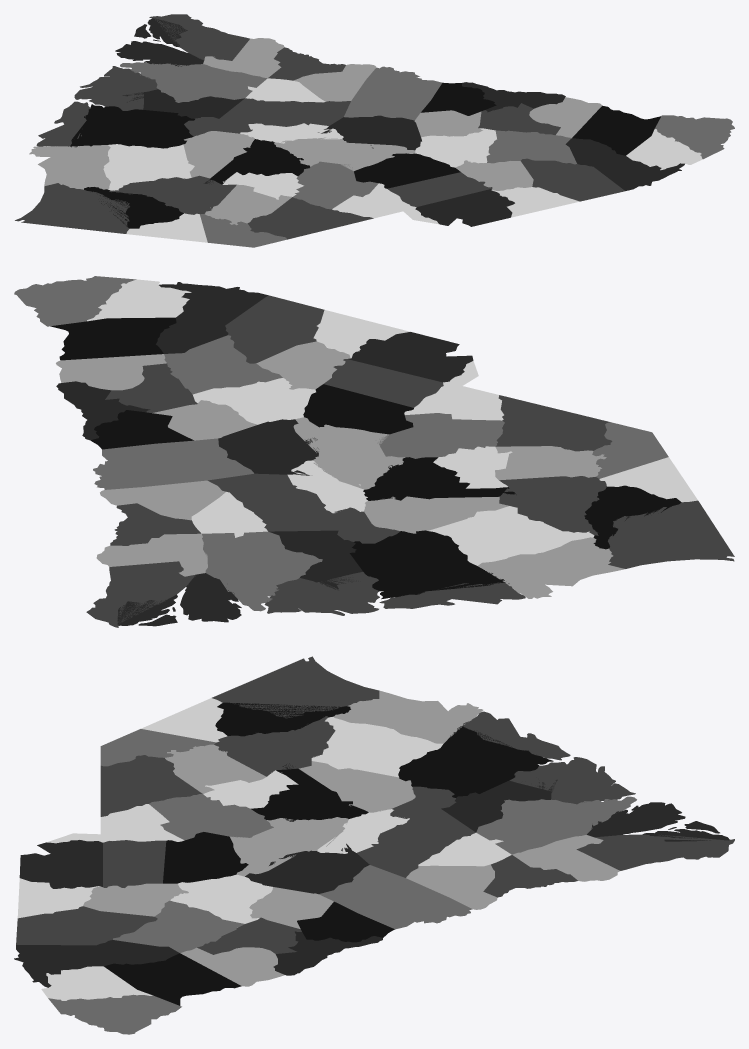
Rendered from South_Carolina_Counties_2D.fbx.
3 renders of one model, top to bottom at view 1: azimuth 30°, elevation 25°; view 2: azimuth 150°, elevation 25°; view 3: azimuth 270°, elevation 25°, orthographic. The views are drawn at different scales.
Parts seen in each view (by area): view 1: SC_Berkeley_County_2D, SC_Horry_County_2D, SC_Orangeburg_County_2D, SC_Charleston_County_2D, SC_Colleton_County_2D, SC_Aiken_County_2D, SC_Williamsburg_County_2D, SC_Georgetown_County_2D, SC_Spartanburg_County_2D, SC_Florence_County_2D, SC_Chesterfield_County_2D, SC_Richland_County_2D (+34 smaller); view 2: SC_Berkeley_County_2D, SC_Horry_County_2D, SC_Orangeburg_County_2D, SC_Charleston_County_2D, SC_Colleton_County_2D, SC_Aiken_County_2D, SC_Williamsburg_County_2D, SC_Georgetown_County_2D, SC_Spartanburg_County_2D, SC_Chesterfield_County_2D, SC_Florence_County_2D, SC_Richland_County_2D (+34 smaller); view 3: SC_Berkeley_County_2D, SC_Horry_County_2D, SC_Charleston_County_2D, SC_Orangeburg_County_2D, SC_Colleton_County_2D, SC_Aiken_County_2D, SC_Williamsburg_County_2D, SC_Georgetown_County_2D, SC_Spartanburg_County_2D, SC_Florence_County_2D, SC_Chesterfield_County_2D, SC_Greenville_County_2D (+34 smaller).
Boxes of the visible parts, x1,y1,x2,y2 form: SC_Berkeley_County_2D: (70, 104, 194, 148); SC_Horry_County_2D: (15, 183, 129, 233); SC_Orangeburg_County_2D: (184, 98, 350, 136); SC_Charleston_County_2D: (36, 66, 157, 146); SC_Colleton_County_2D: (120, 62, 267, 102); SC_Aiken_County_2D: (344, 66, 441, 120); SC_Williamsburg_County_2D: (103, 144, 194, 190); SC_Georgetown_County_2D: (29, 145, 110, 189); SC_Spartanburg_County_2D: (521, 158, 625, 201); SC_Florence_County_2D: (109, 175, 236, 214); SC_Chesterfield_County_2D: (247, 197, 373, 239); SC_Richland_County_2D: (274, 137, 415, 170); SC_Berkeley_County_2D: (349, 530, 505, 599); SC_Horry_County_2D: (608, 500, 734, 568); SC_Orangeburg_County_2D: (207, 473, 400, 543); SC_Charleston_County_2D: (264, 572, 525, 615); SC_Colleton_County_2D: (202, 531, 322, 611); SC_Aiken_County_2D: (93, 438, 253, 489); SC_Williamsburg_County_2D: (428, 506, 594, 565); SC_Georgetown_County_2D: (478, 537, 625, 598); SC_Spartanburg_County_2D: (225, 295, 324, 363); SC_Chesterfield_County_2D: (495, 395, 612, 451); SC_Florence_County_2D: (499, 476, 606, 535); SC_Richland_County_2D: (293, 417, 405, 489); SC_Berkeley_County_2D: (398, 726, 553, 797); SC_Horry_County_2D: (212, 656, 379, 718); SC_Charleston_County_2D: (462, 711, 635, 804); SC_Orangeburg_County_2D: (357, 786, 475, 877); SC_Colleton_County_2D: (476, 796, 636, 854); SC_Aiken_County_2D: (319, 865, 472, 929); SC_Williamsburg_County_2D: (311, 716, 443, 777); SC_Georgetown_County_2D: (333, 690, 483, 743); SC_Spartanburg_County_2D: (16, 906, 157, 945); SC_Florence_County_2D: (214, 716, 335, 776); SC_Chesterfield_County_2D: (100, 755, 202, 816); SC_Greenville_County_2D: (14, 940, 179, 987).
Size of the model in its own units: 855 by 0 by 689.
